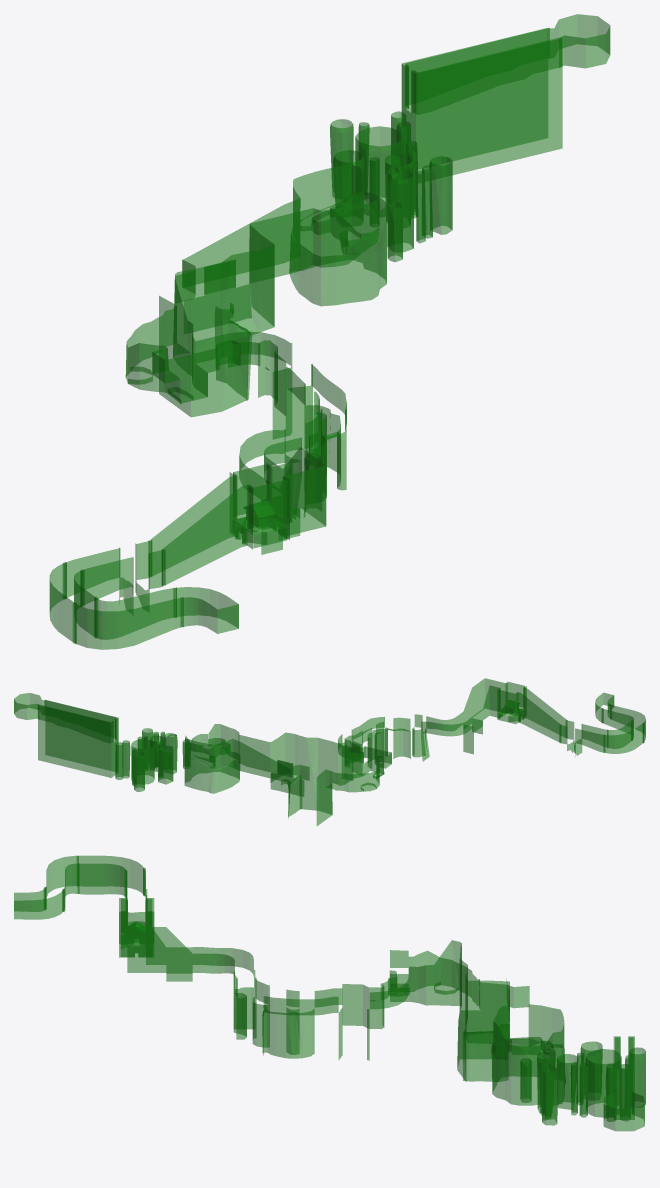
The model's file is wall1.obj.
3 views of the same model, one above another, from view 1: azimuth 30°, elevation 25°; view 2: azimuth 150°, elevation 25°; view 3: azimuth 270°, elevation 25° (orthographic). The views are drawn at different scales.
Bounding box in the file's own units: 579 × 118 × 469.
